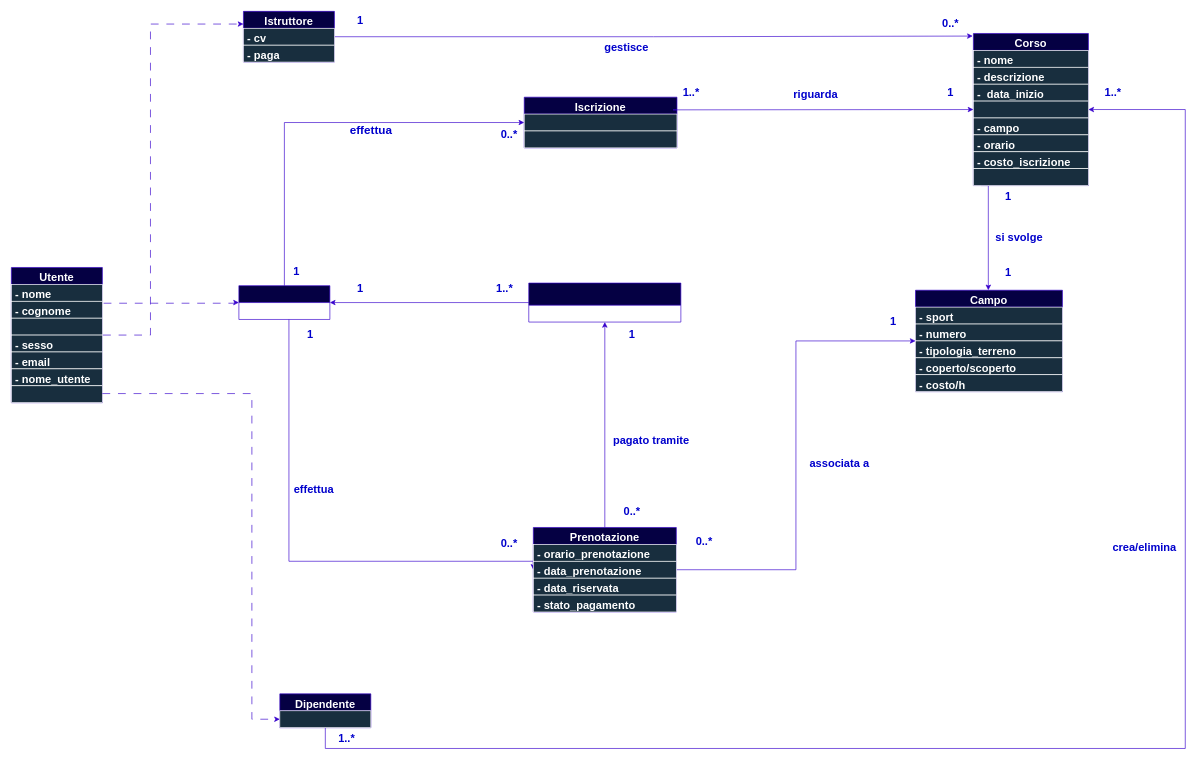
This 1202x765 diagram has some shape labels left out. The centre of each missing label's shape, as x and y in pixels:
"- data_fine" belongs at (1030,109).
"- data_iscrizione" belongs at (600,139).
"- data_nascita" belongs at (56,326).
"- max_iscritti" belongs at (1030,177).
"- orario_iscrizione" belongs at (600,122).
"- password" belongs at (56,394).
"- stipendio" belongs at (325,719).
"Cliente" belongs at (284,302).
"Metodo di Pagamento" belongs at (604,302).
